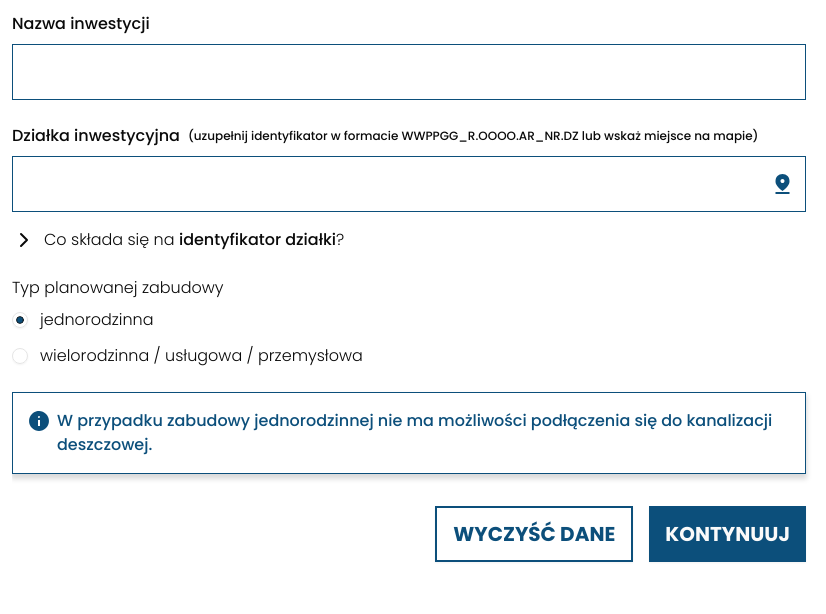
Test: InwestycjaForm component › should display error message when fetch fails
In the field named "nazwaInwestycji" below "Nazwa inwestycji": (409, 72) [12,44,806,100], type "Test Investment"
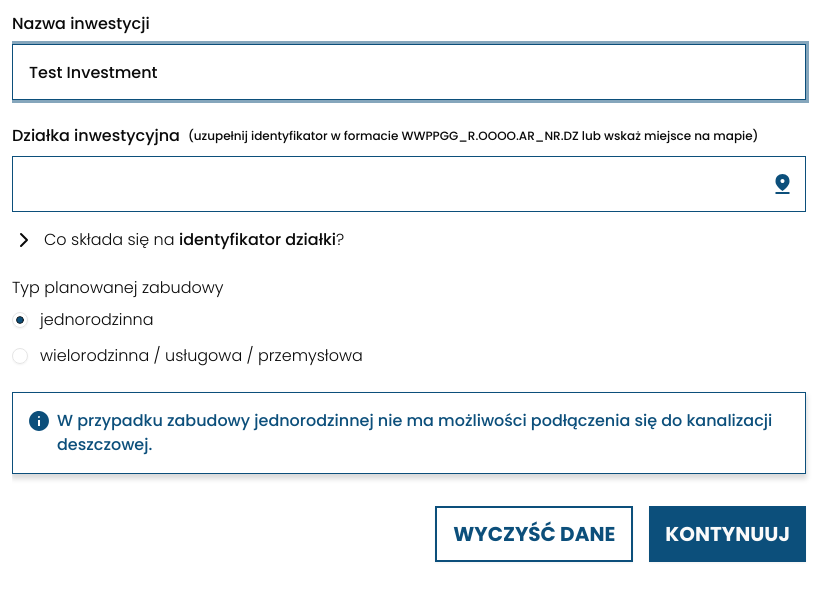
In the field named "identyfikatorInwestycji" below "Działka inwestycyjna": (409, 184) [12,156,806,212], type "123456_1.0001.1_1.0001"
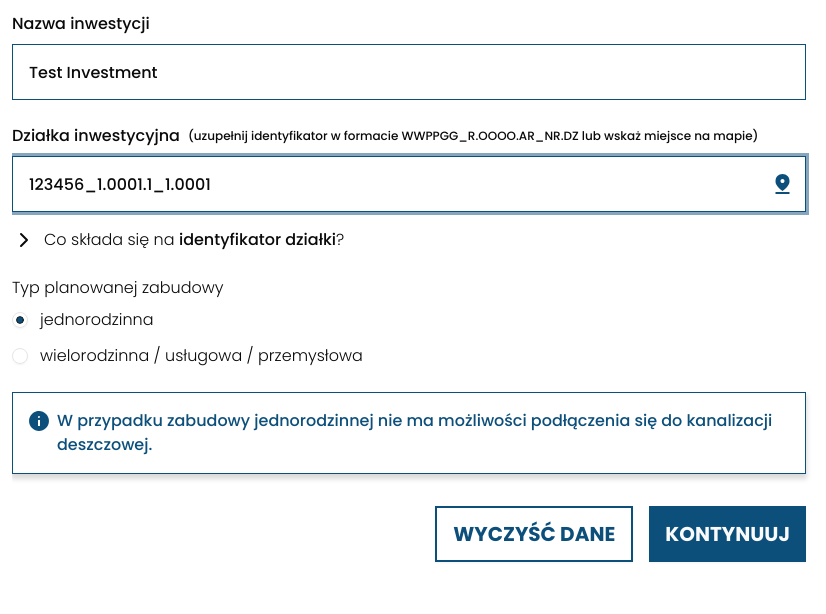
Click the button "Kontynuuj": (728, 534) [649,506,806,562]
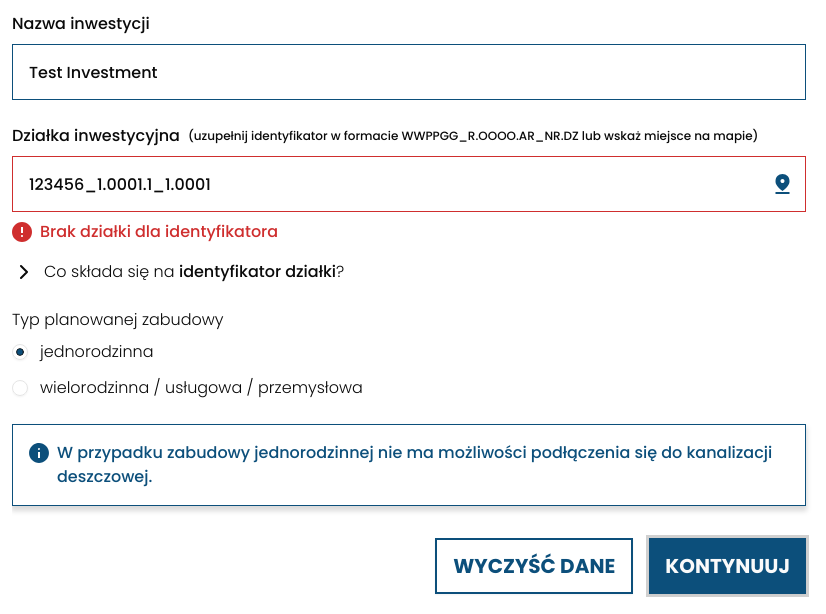
expect the text "Brak działki dla identyfikatora" is shown: met, box [12,220,278,243]
